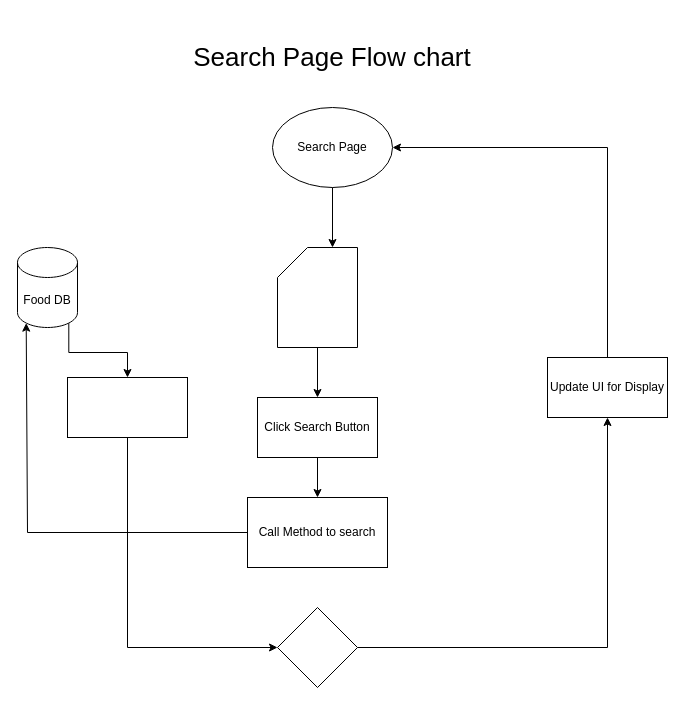
Some shapes in this 685 by 705 pixel diagram are drawn without their labels. Each missing label, with the centre of its shape:
"get user input (food name)" belongs at [317,297].
"Retrive results" belongs at [127,407].
"Sort results" belongs at [317,647].
